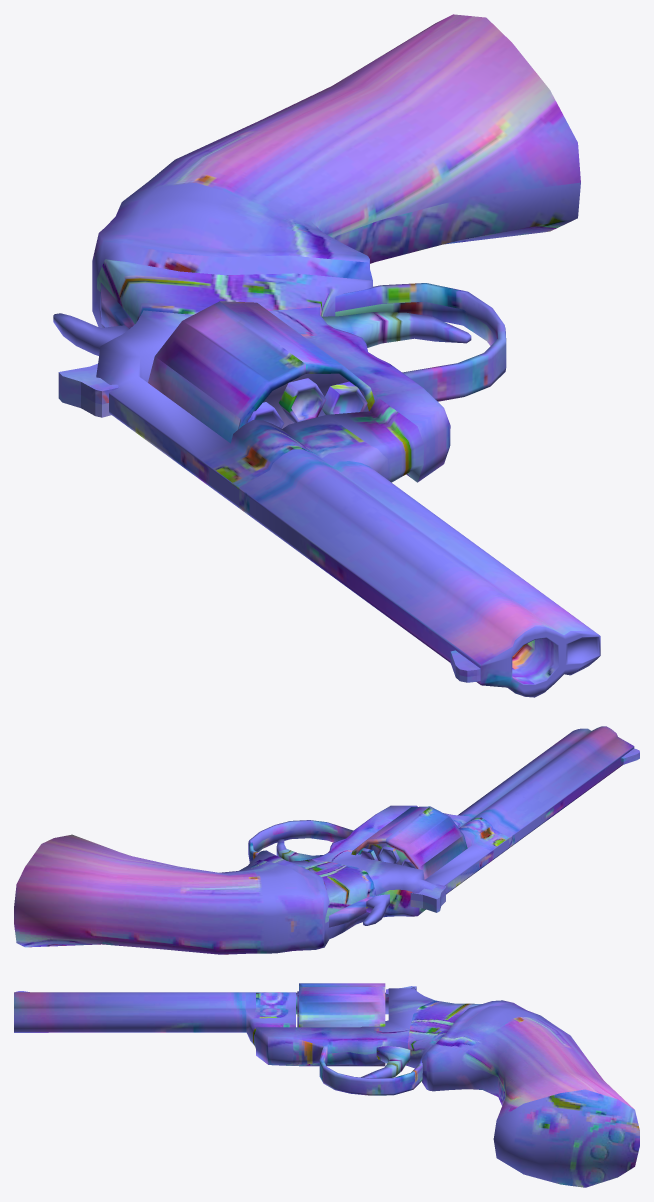
Rendered from Revolver.glb.
3 renders of one model, top to bottom at view 1: azimuth 30°, elevation 25°; view 2: azimuth 150°, elevation 25°; view 3: azimuth 270°, elevation 25°, orthographic. The views are drawn at different scales.
Visible parts, largest first — view 1: Revolver; view 2: Revolver; view 3: Revolver.
Boxes of the visible parts, <box> form: Revolver: <box>53,14,600,697</box>; Revolver: <box>14,726,639,954</box>; Revolver: <box>14,983,639,1187</box>.
Bounding box in the file's own units: 1.89 × 0.5919 × 3.41.
1 material, 1 textured.
